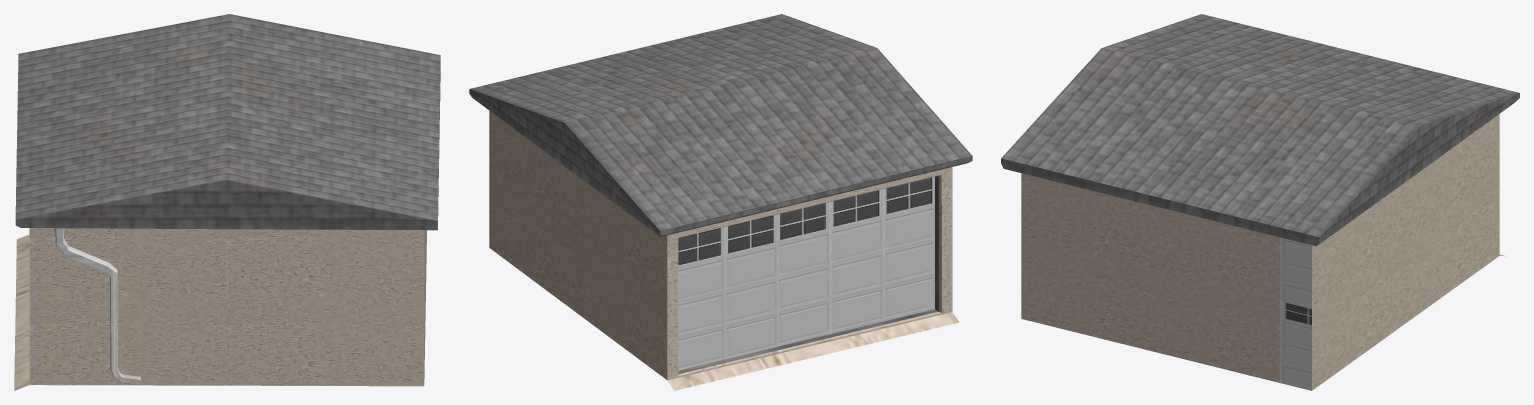
Rendered from garage1.001_garage1_0_lev2.glb.
3 renders of one model, left to right at view 1: azimuth 30°, elevation 25°; view 2: azimuth 150°, elevation 25°; view 3: azimuth 270°, elevation 25°, orthographic. The views are drawn at different scales.
Visible parts, largest first — view 1: garage1.001_garage1_0_lev2; view 2: garage1.001_garage1_0_lev2; view 3: garage1.001_garage1_0_lev2.
Boxes of the visible parts, left/top/right/bottom form: garage1.001_garage1_0_lev2: left=14, top=14, right=440, bottom=390; garage1.001_garage1_0_lev2: left=469, top=14, right=972, bottom=390; garage1.001_garage1_0_lev2: left=1001, top=14, right=1519, bottom=390.
Bounding box in the file's own units: 12.38 × 5.3 × 12.15.
1 material, 1 textured.
